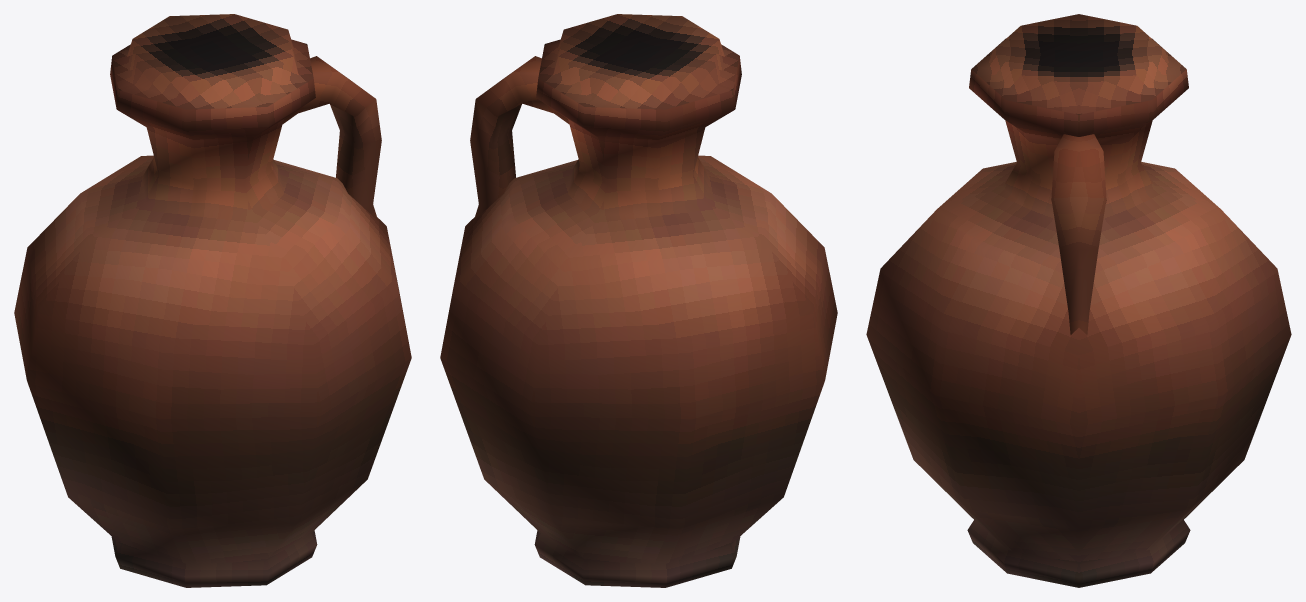
The model's file is pottery_04.glb.
The picture shows the model from 3 angles, left to right: view 1: azimuth 30°, elevation 25°; view 2: azimuth 150°, elevation 25°; view 3: azimuth 270°, elevation 25°; orthographic projection.
Parts seen in each view (by area): view 1: pottery_04, pottery_04_handle; view 2: pottery_04, pottery_04_handle; view 3: pottery_04, pottery_04_handle.
Part boxes in pixels (x1,y1,x2,y2): pottery_04: [14, 14, 411, 587]; pottery_04_handle: [282, 56, 381, 220]; pottery_04: [440, 14, 837, 587]; pottery_04_handle: [470, 56, 569, 220]; pottery_04: [866, 14, 1291, 587]; pottery_04_handle: [1051, 134, 1106, 334].
Size of the model in its own units: 0.8425 by 1.08 by 0.8425.
Materials: 1 (1 with a texture image).
